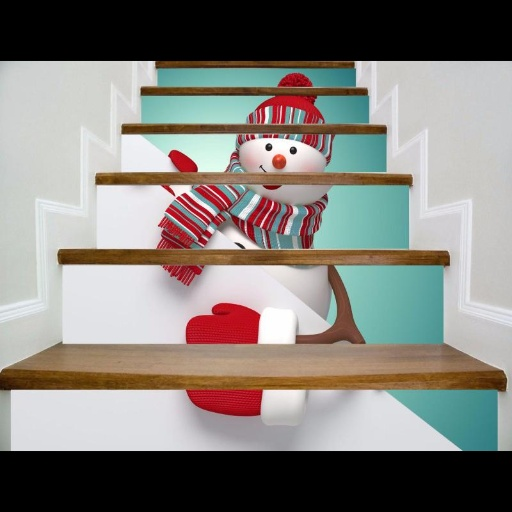Stairs: (317, 64, 512, 449), (396, 392, 495, 448), (158, 63, 285, 86), (142, 97, 257, 122)
